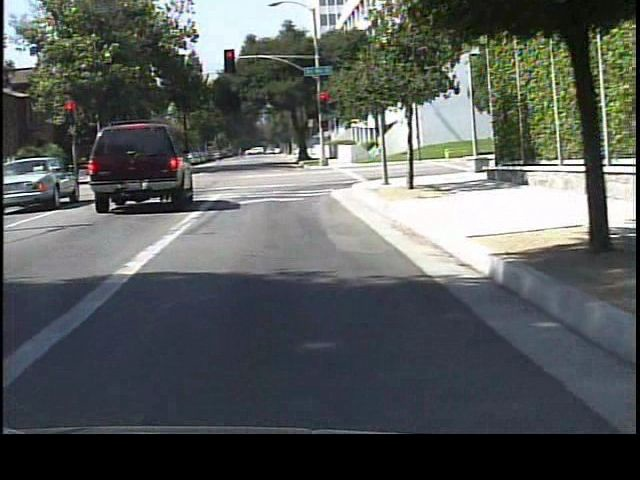person: (370, 133, 389, 166)
